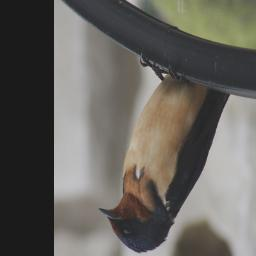Swallow: (98, 49, 233, 255)
